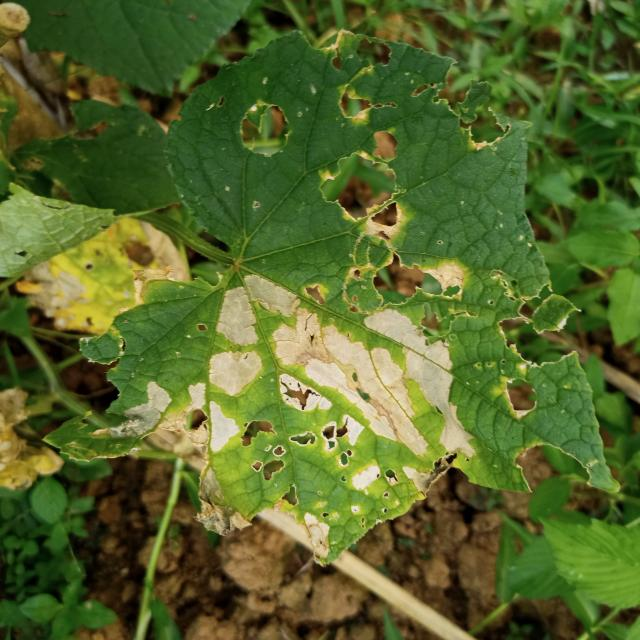disease_cucumber: (153, 252, 528, 526)
